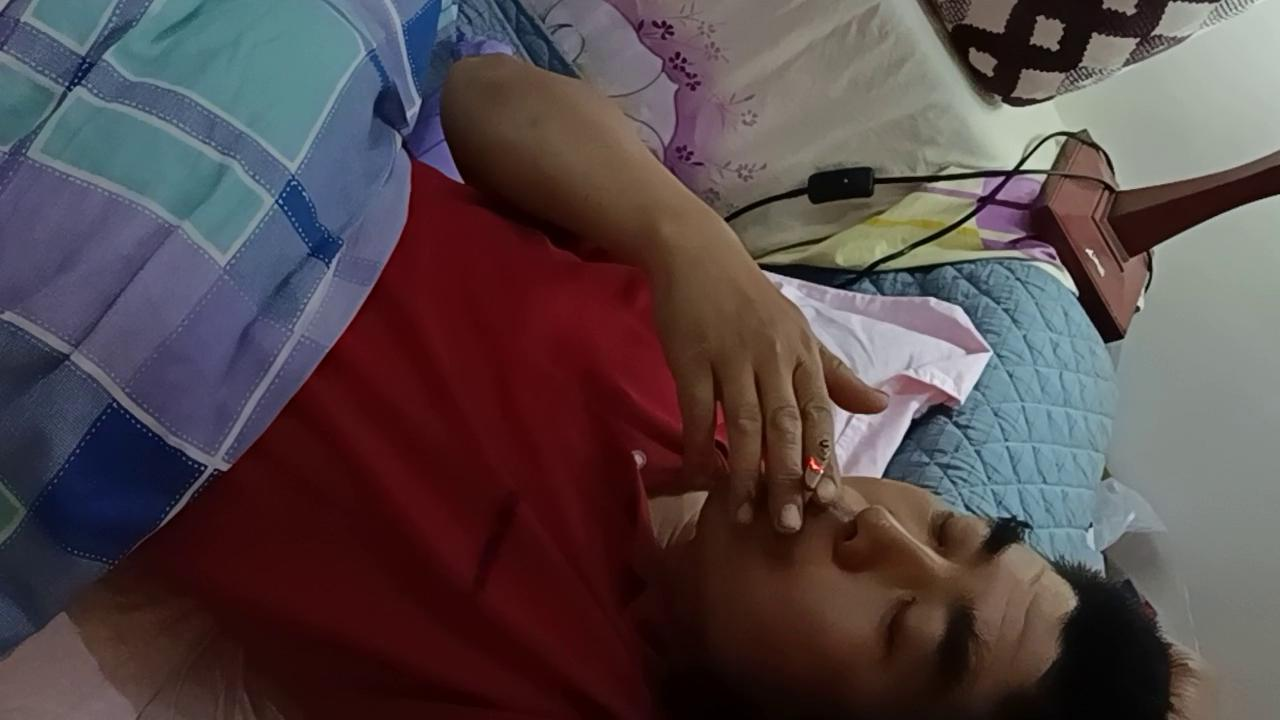smoke: (797, 438, 832, 506)
